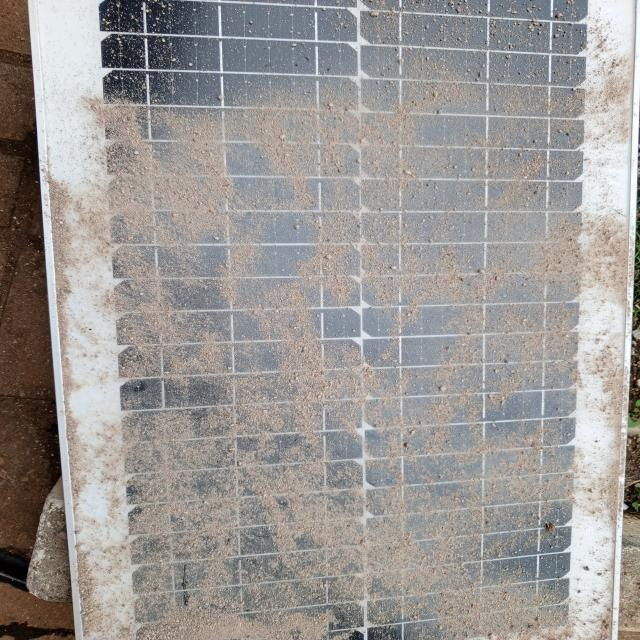Surface Contaminant: (100, 72, 597, 639)
